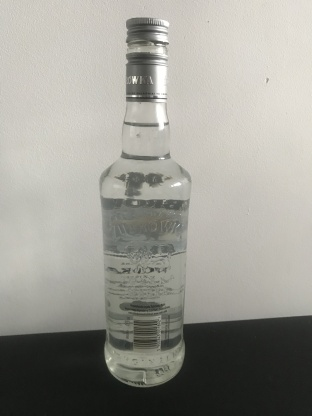nakretka: (124, 15, 170, 101)
